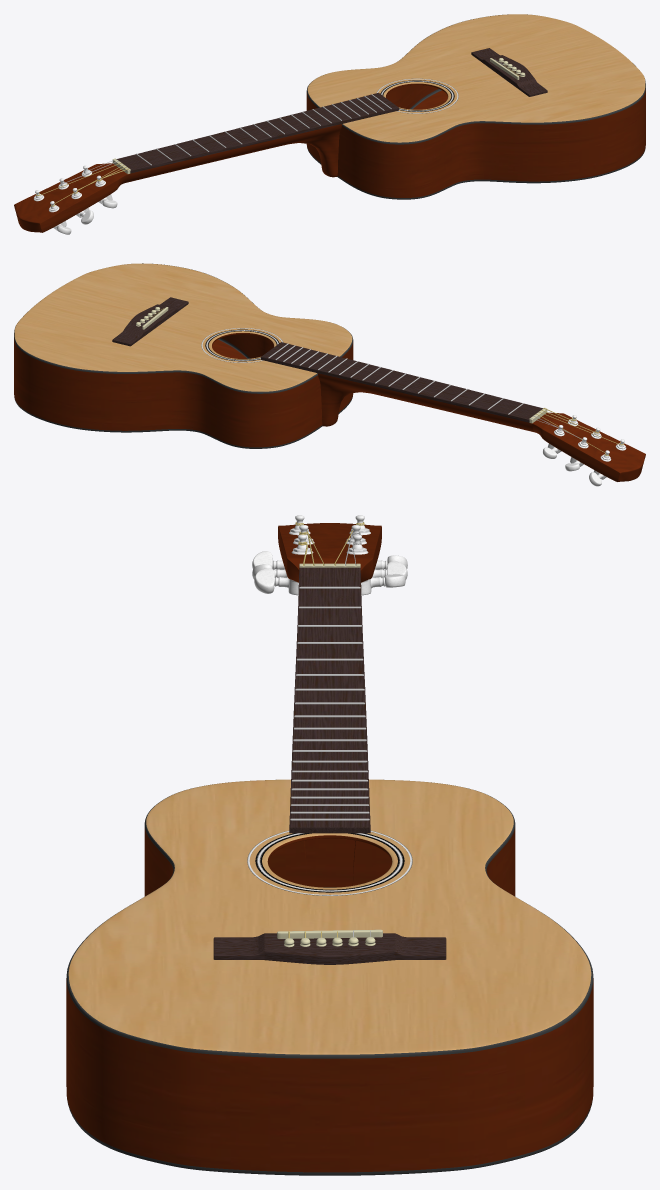
Rendered from guitar.glb.
The picture shows the model from 3 angles, top to bottom: view 1: azimuth 30°, elevation 25°; view 2: azimuth 150°, elevation 25°; view 3: azimuth 270°, elevation 25°; orthographic projection. The views are drawn at different scales.
Visible parts, largest first — view 1: top, sides, neck, fretboard, binding, bridge, tuners, frets, rosette, stringEnds, hardware, back; view 2: top, sides, neck, fretboard, binding, bridge, tuners, frets, rosette, stringEnds, hardware, back; view 3: top, sides, fretboard, binding, bridge, frets, neck, tuners, rosette, hardware.
Part boxes in pixels (bbox=[...]): top: bbox=[307, 14, 645, 142]; sides: bbox=[306, 83, 645, 197]; neck: bbox=[14, 124, 341, 232]; fretboard: bbox=[116, 93, 398, 173]; binding: bbox=[306, 14, 645, 199]; bridge: bbox=[471, 48, 547, 96]; tuners: bbox=[33, 165, 117, 234]; frets: bbox=[136, 94, 391, 165]; rosette: bbox=[377, 78, 458, 113]; stringEnds: bbox=[36, 60, 520, 206]; hardware: bbox=[112, 58, 525, 173]; back: bbox=[413, 90, 447, 109]; top: bbox=[14, 263, 352, 391]; sides: bbox=[14, 333, 353, 447]; neck: bbox=[318, 373, 645, 481]; fretboard: bbox=[261, 342, 542, 422]; binding: bbox=[14, 263, 353, 448]; bridge: bbox=[112, 297, 188, 346]; tuners: bbox=[543, 415, 626, 486]; frets: bbox=[268, 343, 523, 414]; rosette: bbox=[201, 328, 283, 362]; stringEnds: bbox=[141, 308, 623, 455]; hardware: bbox=[136, 307, 547, 423]; back: bbox=[212, 340, 246, 358]; top: bbox=[68, 779, 591, 1054]; sides: bbox=[66, 827, 593, 1172]; fretboard: bbox=[289, 567, 370, 833]; binding: bbox=[66, 782, 593, 1175]; bridge: bbox=[213, 933, 446, 964]; frets: bbox=[290, 586, 369, 820]; neck: bbox=[278, 523, 381, 885]; tuners: bbox=[252, 515, 407, 595]; rosette: bbox=[247, 830, 412, 895]; hardware: bbox=[277, 563, 382, 947].
Size of the model in its own units: 38.06 by 4.21 by 14.58.
Materials: 13 (13 with a texture image).
